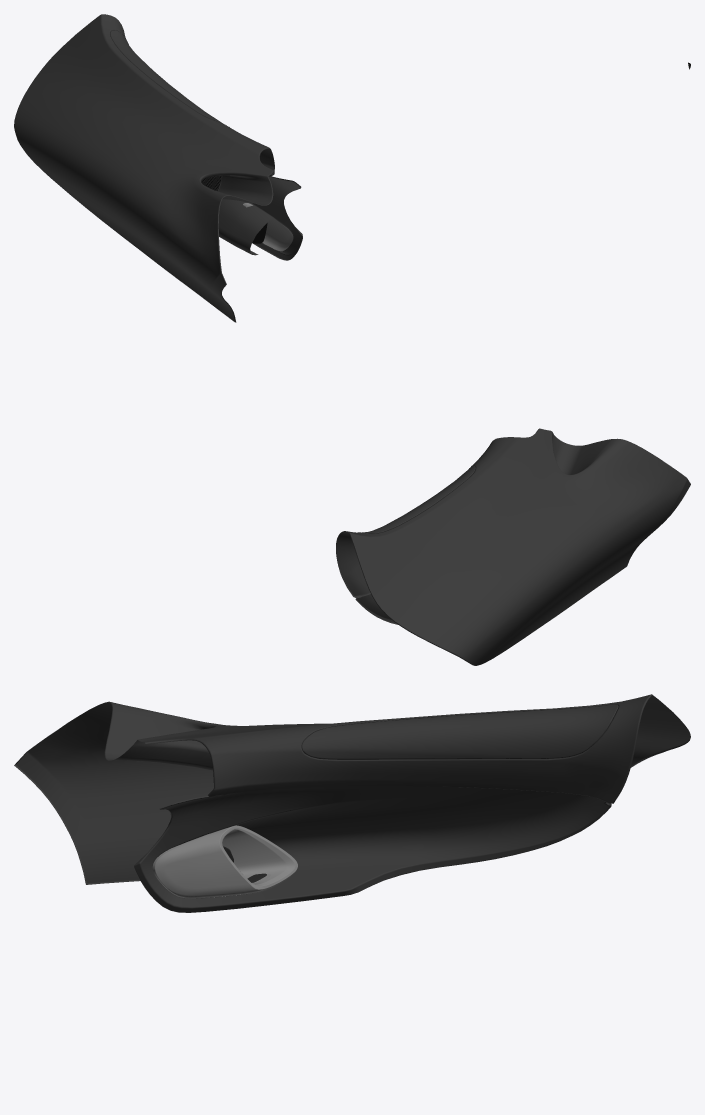
File: door_rf.glb
3 views of the same model, one above another, from view 1: azimuth 30°, elevation 25°; view 2: azimuth 150°, elevation 25°; view 3: azimuth 270°, elevation 25° (orthographic). The views are drawn at different scales.
Parts seen in each view (by area): view 1: body:Kit0_Paint_Geo_lodABody_lodA_McLaren_Elva_2021Paint_Ma.; view 2: body:Kit0_Paint_Geo_lodABody_lodA_McLaren_Elva_2021Paint_Ma.; view 3: body:Kit0_Paint_Geo_lodABody_lodA_McLaren_Elva_2021Paint_Ma..
Part boxes in pixels (x1,y1,x2,y2): body:Kit0_Paint_Geo_lodABody_lodA_McLaren_Elva_2021Paint_Ma.: (14, 14, 690, 322); body:Kit0_Paint_Geo_lodABody_lodA_McLaren_Elva_2021Paint_Ma.: (336, 428, 690, 665); body:Kit0_Paint_Geo_lodABody_lodA_McLaren_Elva_2021Paint_Ma.: (14, 694, 690, 912).
Size of the model in its own units: 0.0179 by 0.00493 by 0.0131.
Materials: 4 (3 with a texture image).
